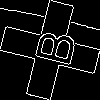B: (25, 25, 77, 68)
